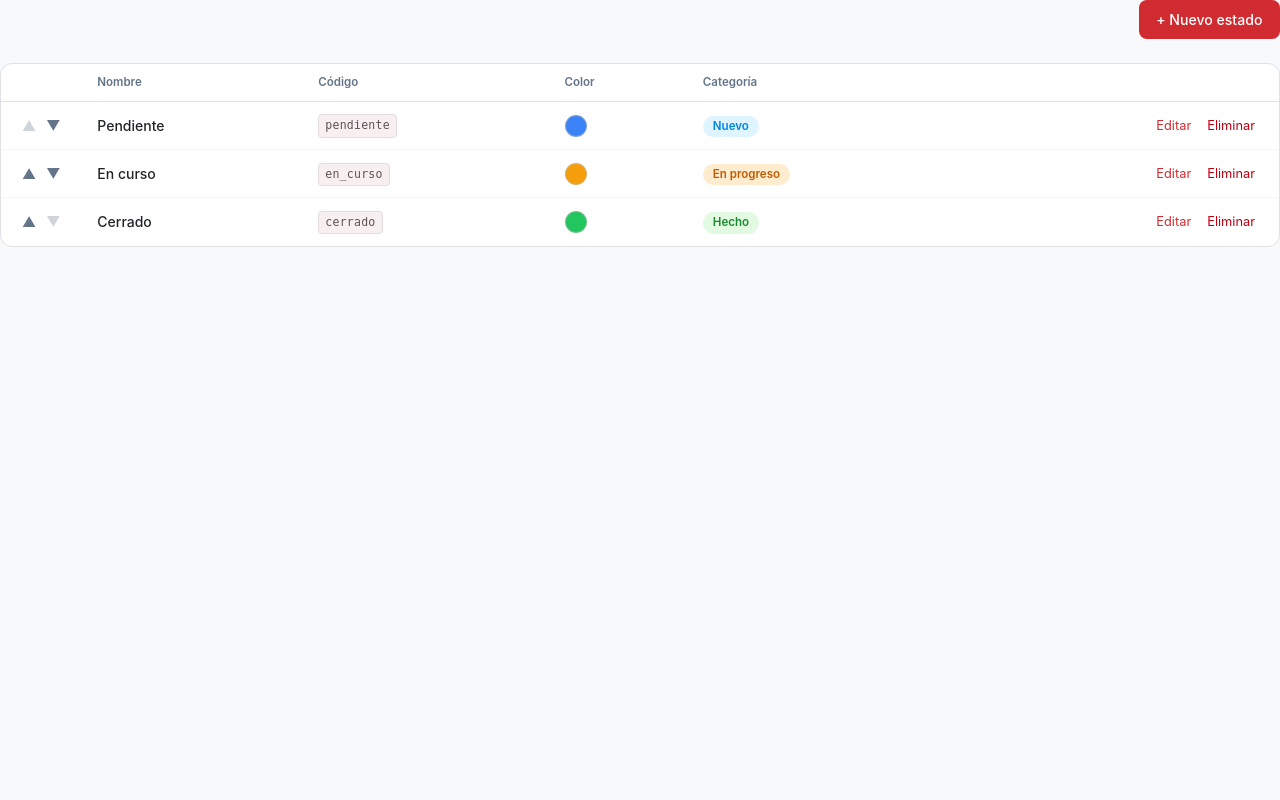
Test: WorkflowStatesBody › W9 — opens create modal when "+ Nuevo estado" is clicked
Click the button "+ Nuevo estado" at coordinates (1209, 19), box [1138, 0, 1279, 39]
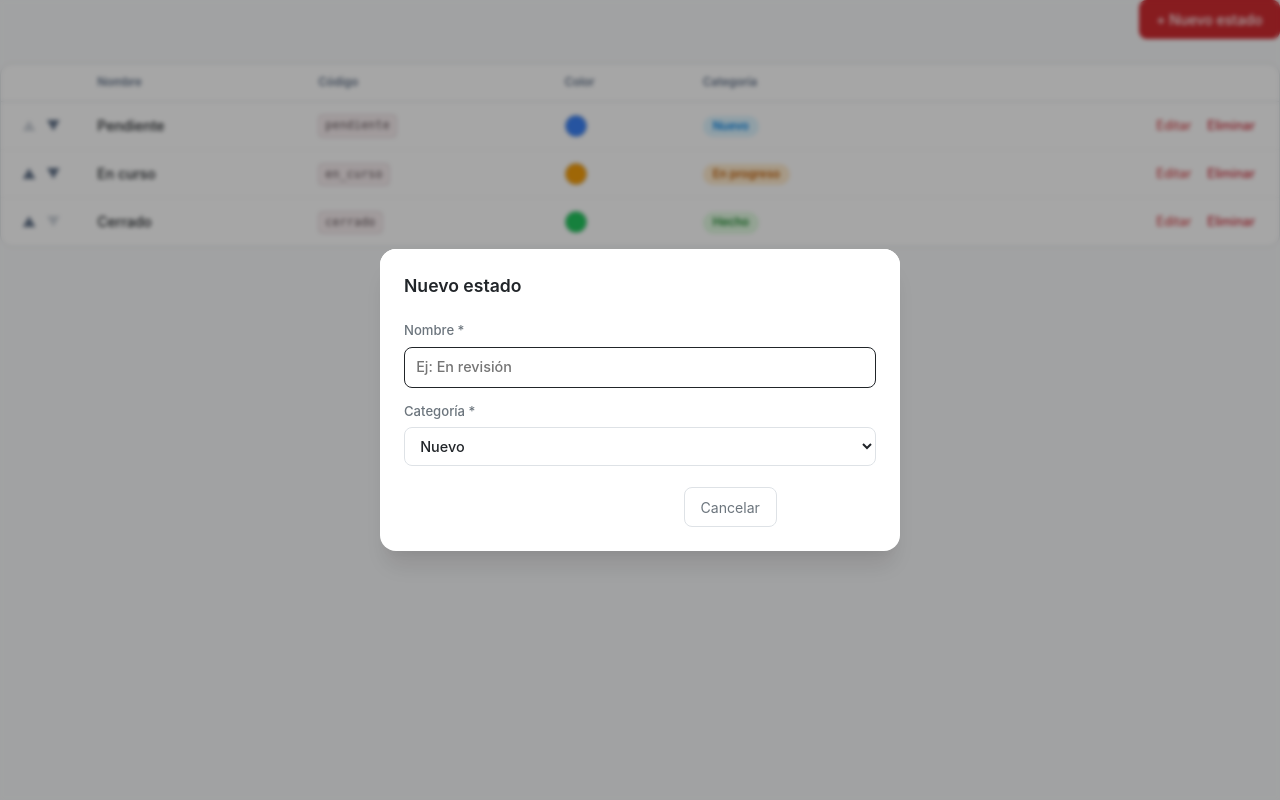
Expected: the dialog "Nuevo estado Nombre * Categoría * Cancelar Guardar" is shown
